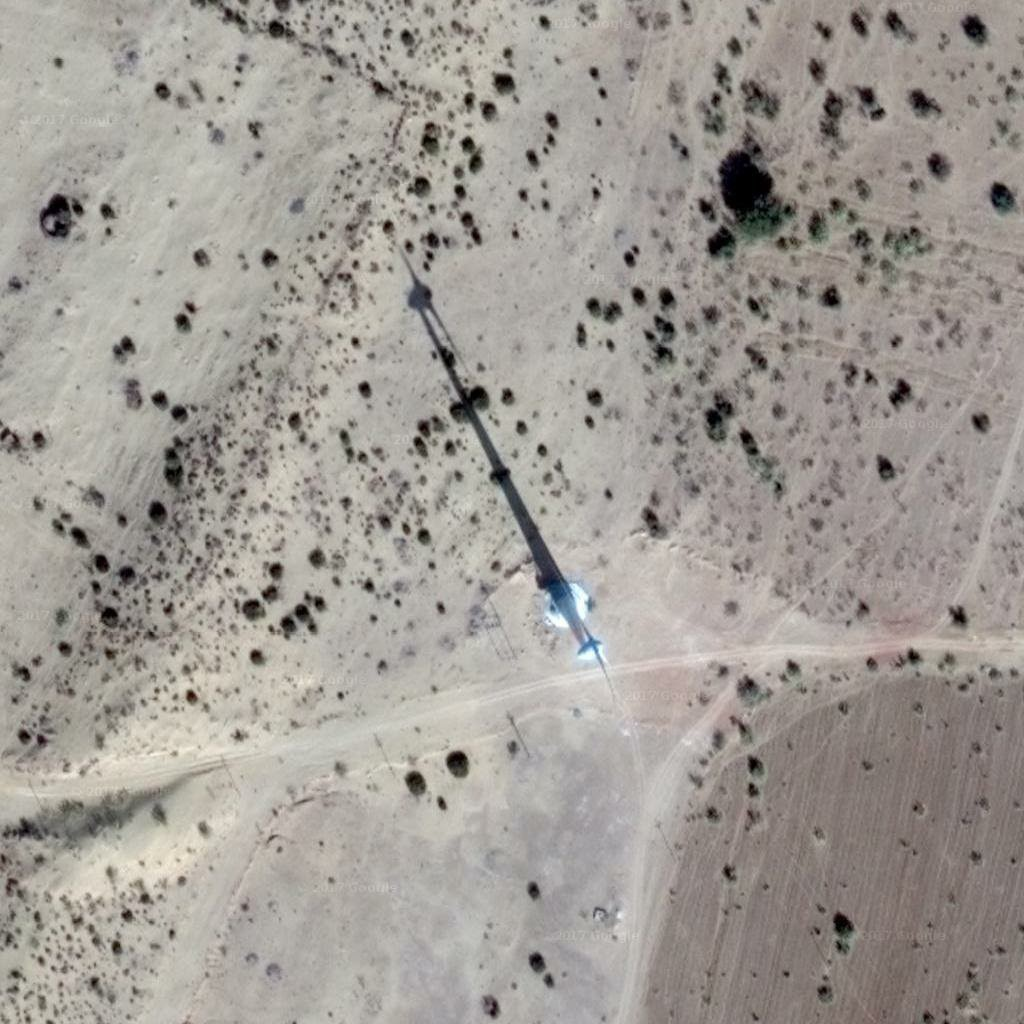Windmill: (400, 251, 590, 579)
